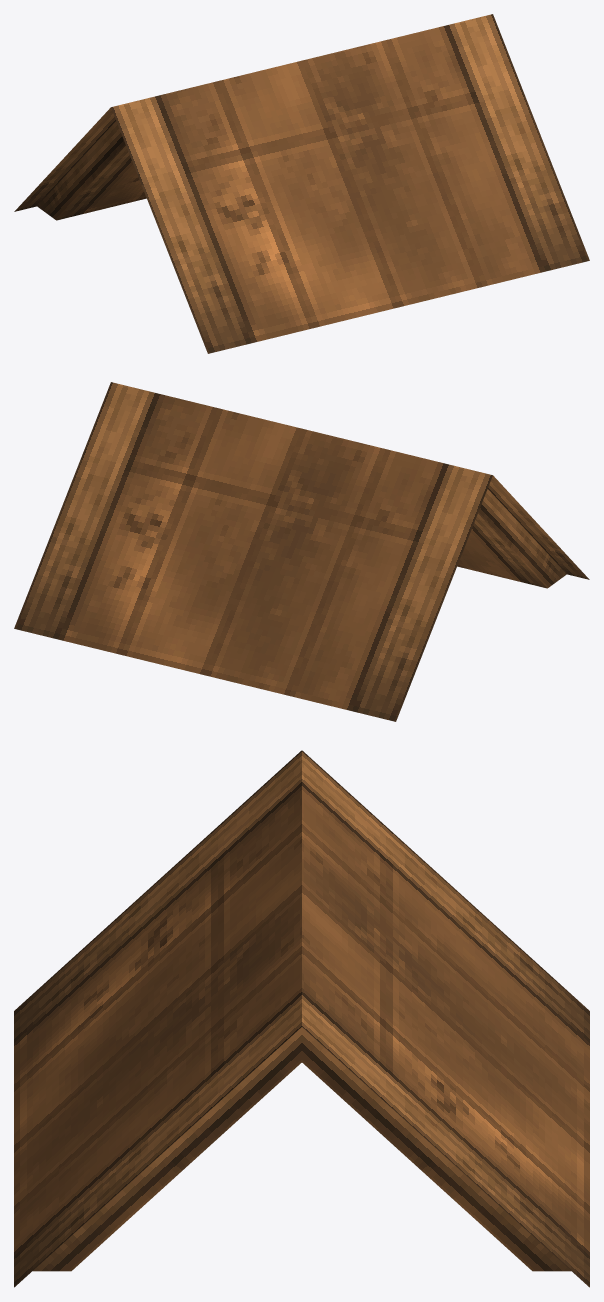
3 views of the same model, one above another, from view 1: azimuth 30°, elevation 25°; view 2: azimuth 150°, elevation 25°; view 3: azimuth 270°, elevation 25° (orthographic). The views are drawn at different scales.
Parts seen in each view (by area): view 1: roof-metal-type-a; view 2: roof-metal-type-a; view 3: roof-metal-type-a.
Part boxes in pixels (<box>): roof-metal-type-a: <box>14,14,589,353</box>; roof-metal-type-a: <box>14,382,589,721</box>; roof-metal-type-a: <box>14,750,589,1287</box>.
Bounding box in the file's own units: 1.14 × 0.5 × 1.
2 materials, 2 textured.
